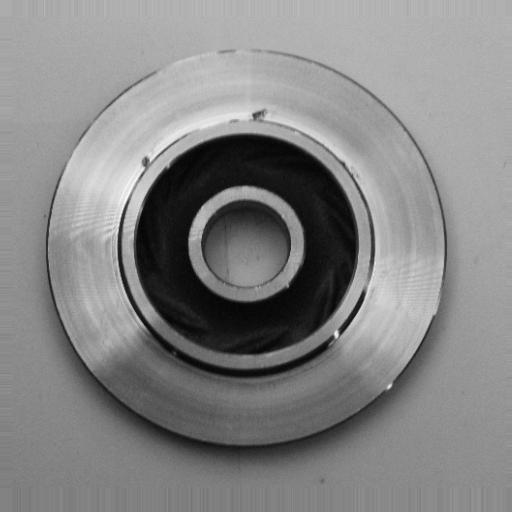crack: (240, 100, 276, 127), (132, 149, 159, 177)
scratch: (319, 310, 355, 366)
unpolished_casting: (42, 45, 448, 451)
